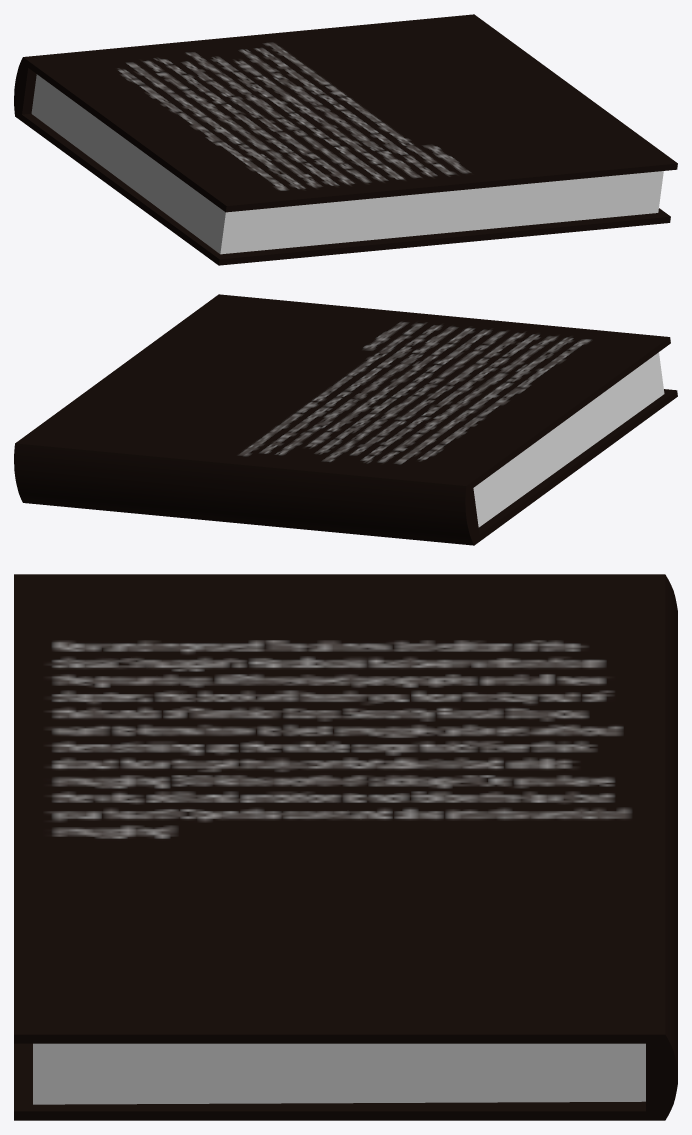
File: SmugglerBook.fbx
The picture shows the model from 3 angles, top to bottom: view 1: azimuth 30°, elevation 25°; view 2: azimuth 150°, elevation 25°; view 3: azimuth 270°, elevation 25°; orthographic projection. The views are drawn at different scales.
Visible parts, largest first — view 1: SmugglerBook_Baked; view 2: SmugglerBook_Baked; view 3: SmugglerBook_Baked.
Part boxes in pixels (left/top/right/bottom): SmugglerBook_Baked: left=14, top=14, right=677, bottom=265; SmugglerBook_Baked: left=14, top=294, right=677, bottom=545; SmugglerBook_Baked: left=14, top=574, right=677, bottom=1120.
Size of the model in its own units: 28.1 by 7.31 by 22.
Materials: 1 (1 with a texture image).
